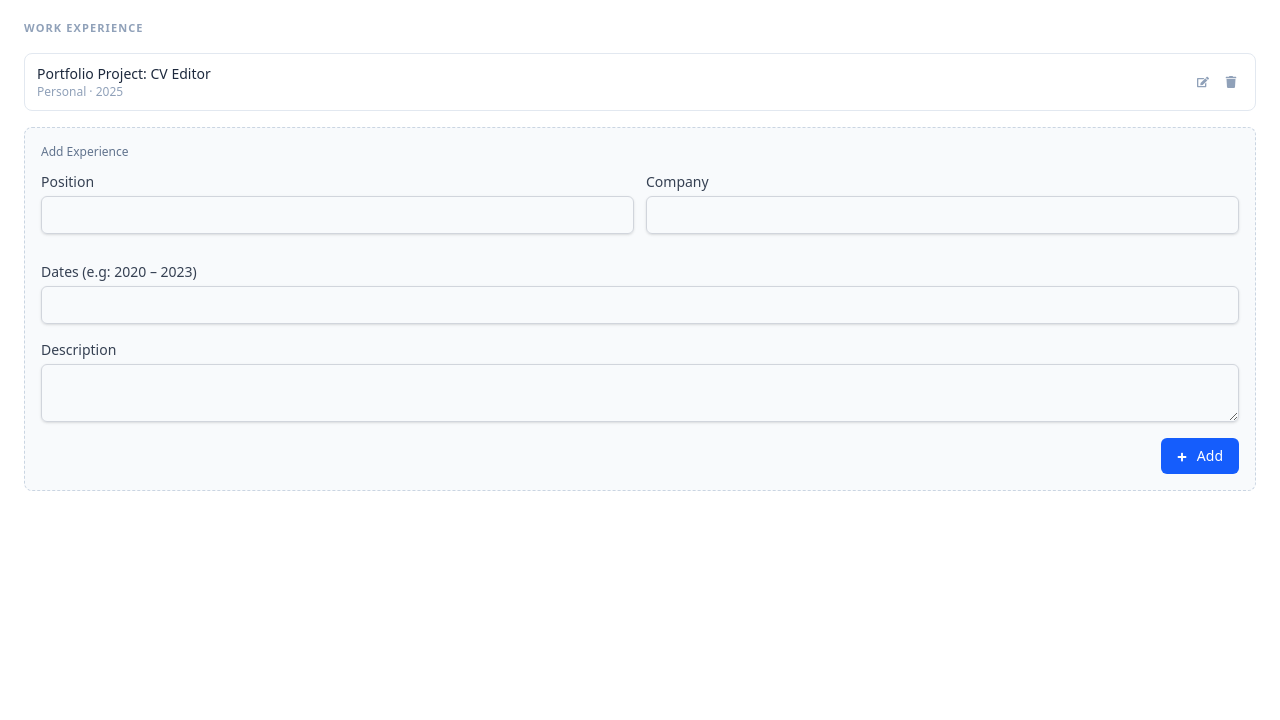
ExperienceForm › adds a new item when position and company are filled
Type "Frontend Dev" into the field labelled "Position" at (338, 214), box x1=41 y1=196 x2=634 y2=234
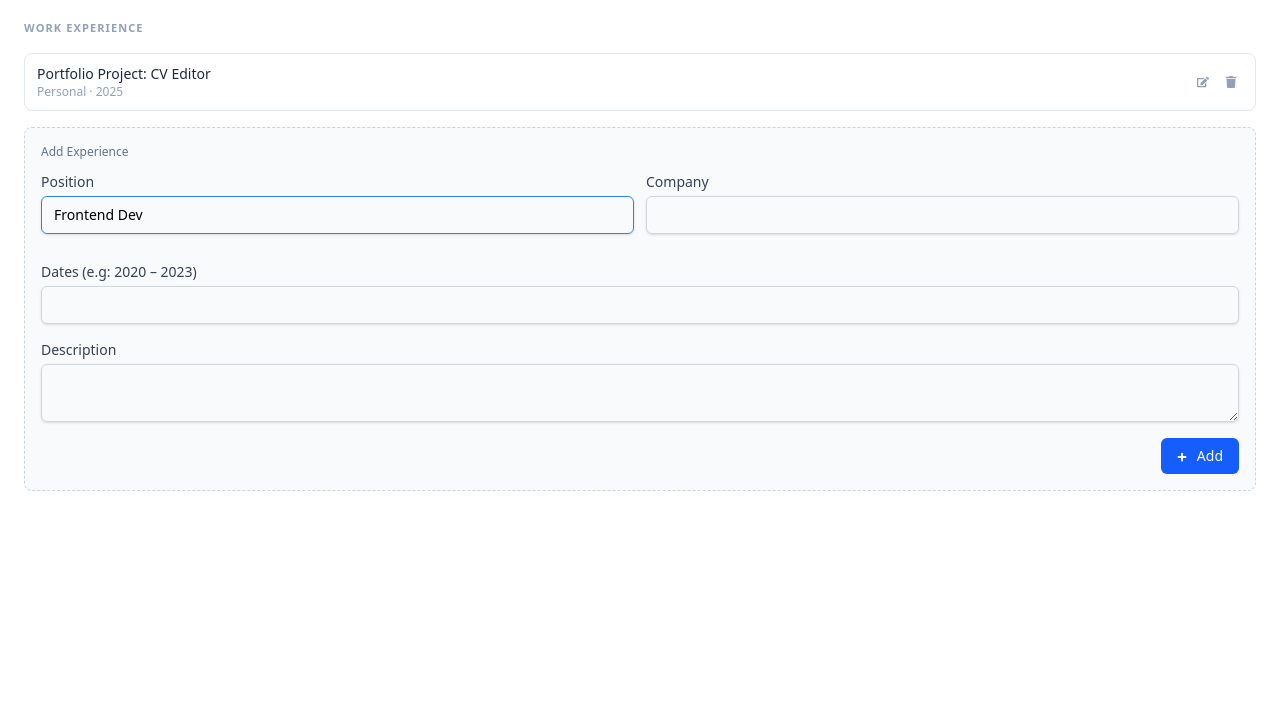
Type "ACME Corp" into the field labelled "Company" at (942, 214), box x1=646 y1=196 x2=1239 y2=234
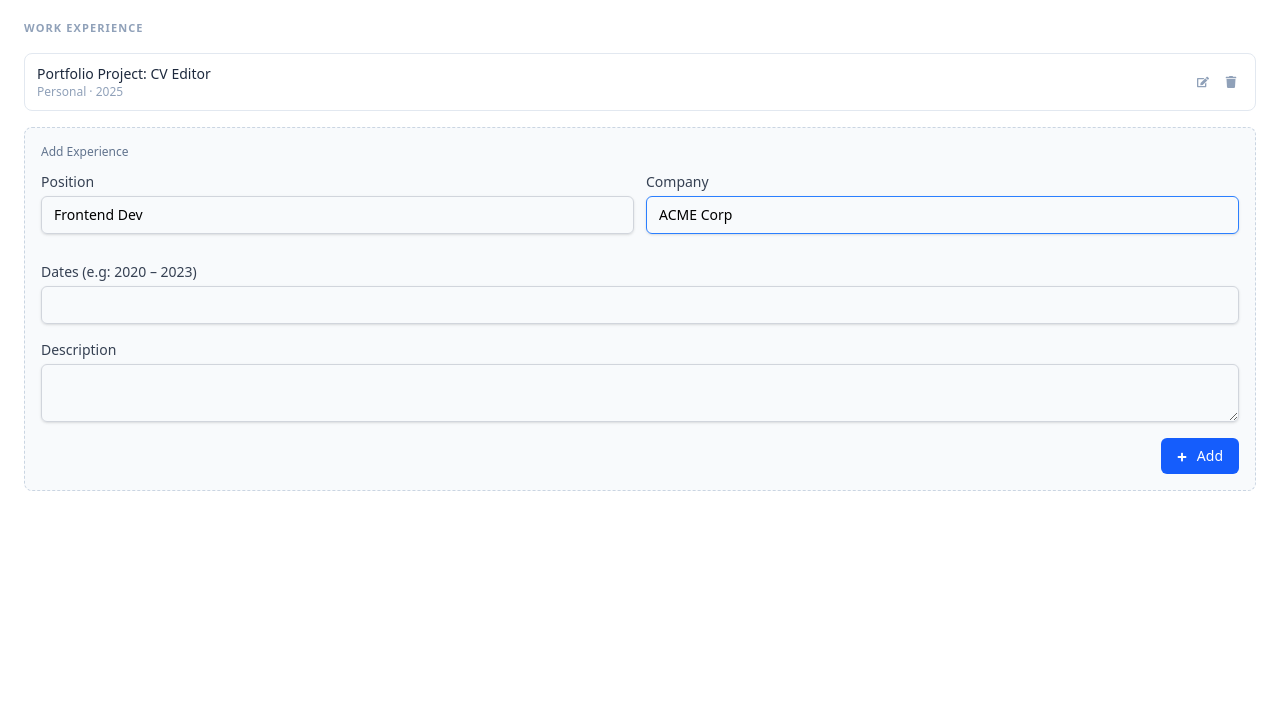
Click the button "Add" at (1200, 456), box x1=1161 y1=438 x2=1239 y2=474
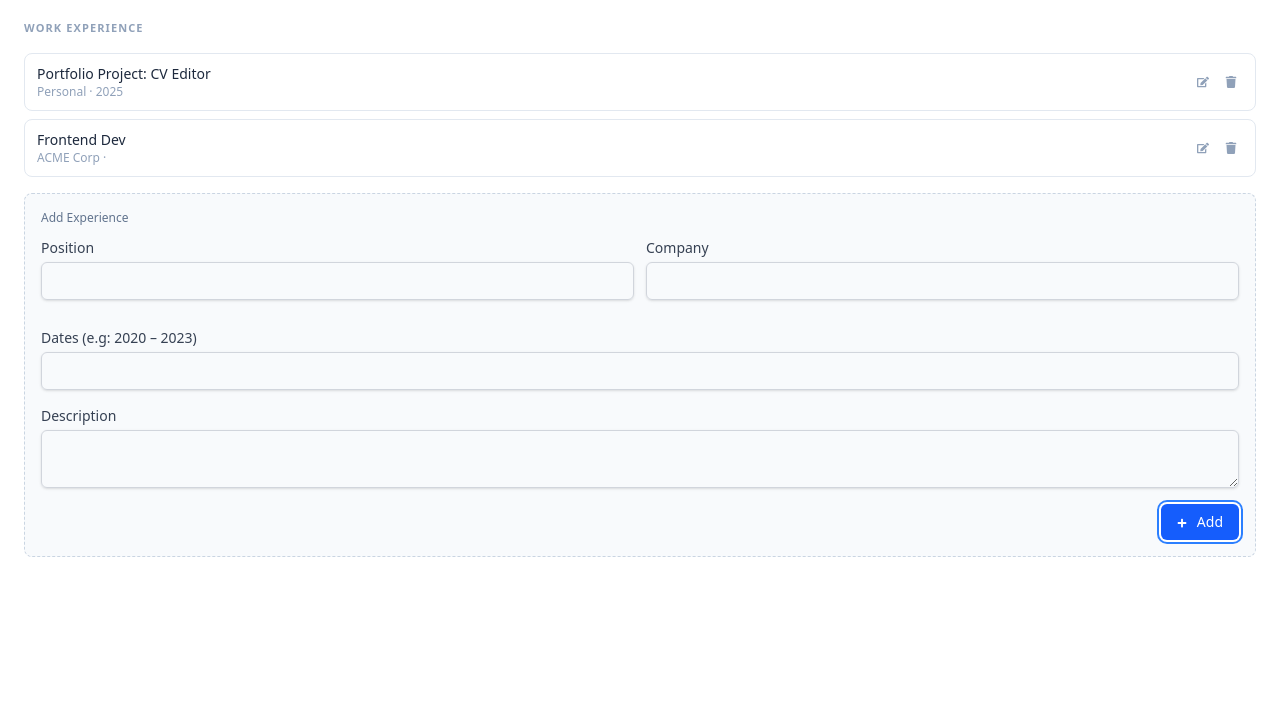
Expected: the text "Frontend Dev" is shown, x1=37 y1=130 x2=126 y2=150
Expected: the text "ACME Corp ·" is shown, x1=37 y1=148 x2=106 y2=166
